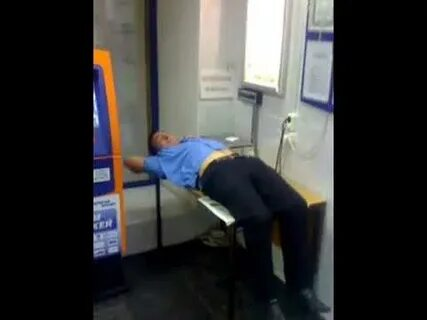sleep: (123, 129, 308, 225)
